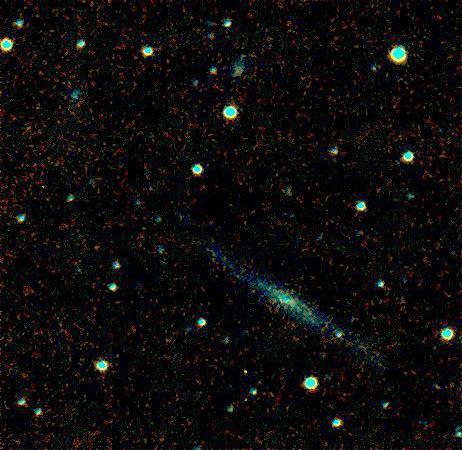star: (82, 233, 112, 263)
